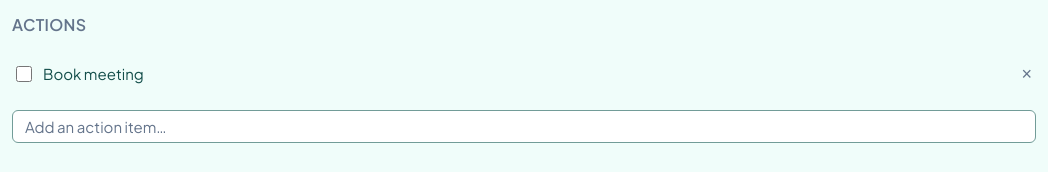
ActionsSection › editing an action saves the new text via PUT and shows it optimistically
The image size is (1048, 172).
Click the button with test id "action-description-a-1" at (93, 73), box [43,62,1010,86]
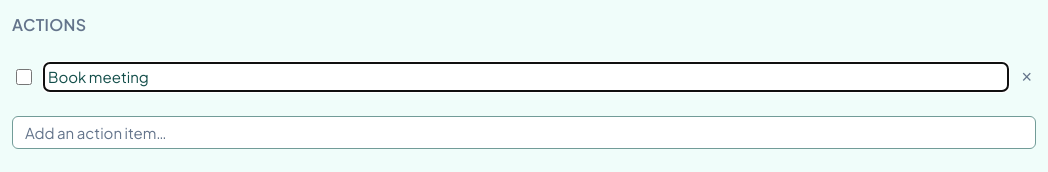
Replace the text in the field with test id "edit-action-input-a-1" with "Book the big room" at (526, 77), box [43,62,1010,92]
Then press Enter
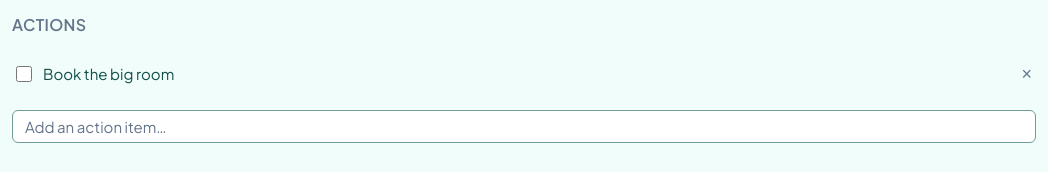
Expected: the button with test id "action-description-a-1" reads "Book the big room", [43,62,1010,86]
